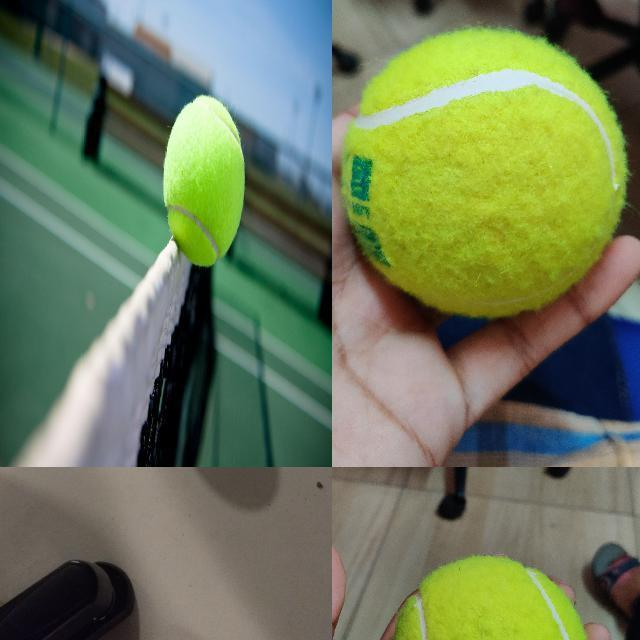tennis-ball: (341, 30, 625, 317), (390, 556, 588, 639), (163, 94, 245, 269)
